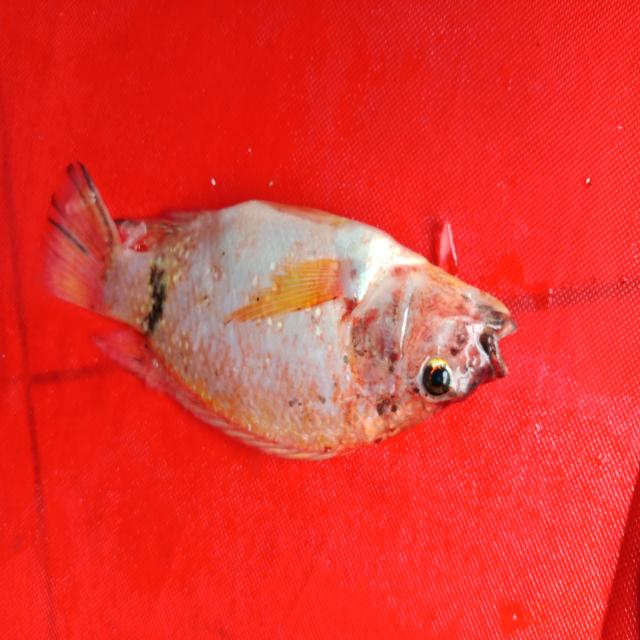ikan: (35, 145, 530, 474)
